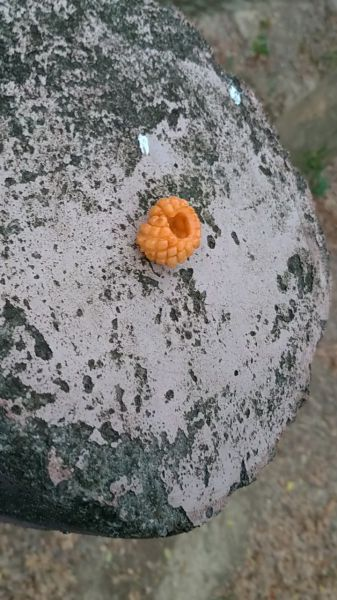eggs: (128, 191, 210, 269)
